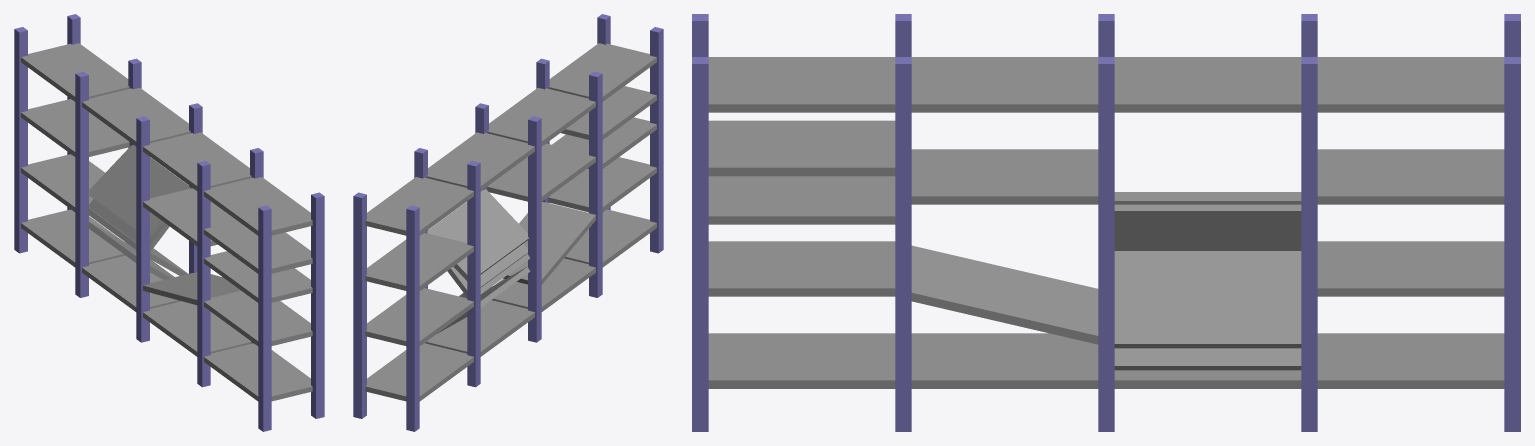
The model's file is shelves-2.glb.
3 renders of one model, left to right at view 1: azimuth 30°, elevation 25°; view 2: azimuth 150°, elevation 25°; view 3: azimuth 270°, elevation 25°, orthographic. The views are drawn at different scales.
Visible parts, largest first — view 1: shelf-1; view 2: shelf-1; view 3: shelf-1.
Part boxes in pixels (box(x1,y1,x2,y2)): shelf-1: box(14, 14, 324, 431); shelf-1: box(353, 14, 663, 431); shelf-1: box(692, 14, 1520, 431).
Size of the model in its own units: 4.65 by 16 by 32.65.
